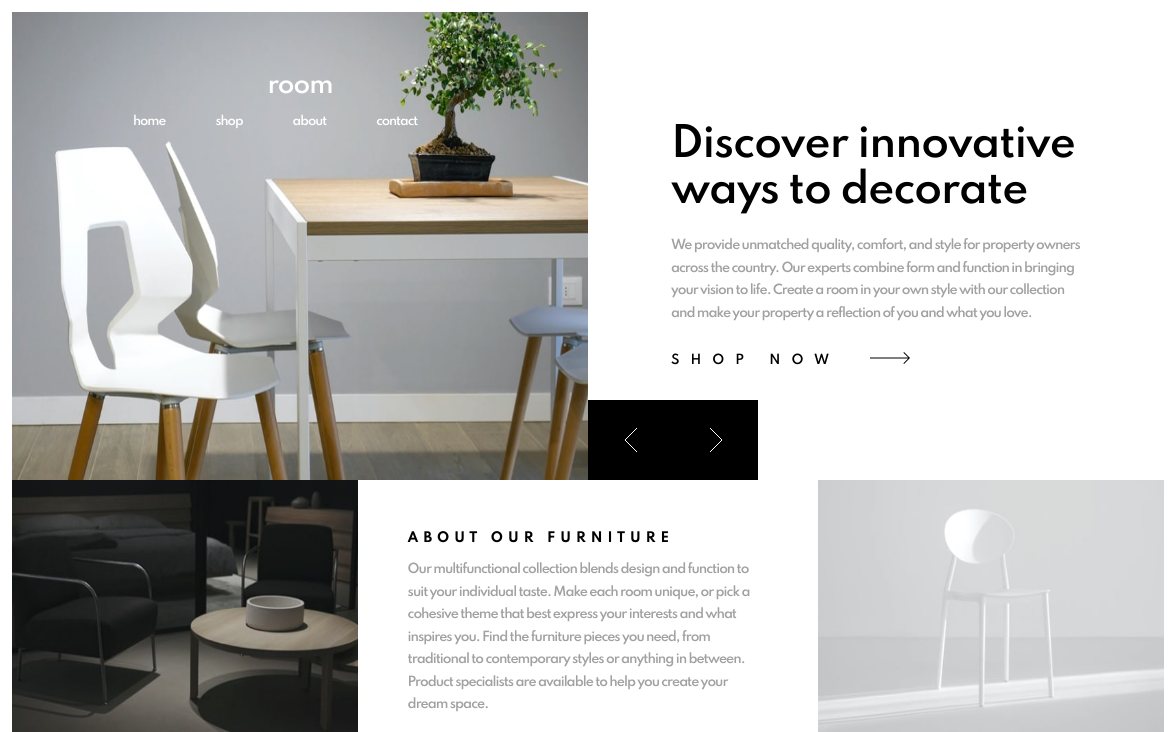
Test: test App change slide for text and image › test text change when click on right arrow div
Check: the heading with test id "article-title" reads "Discover innovative ways to decorate", box top-left (671, 123), bottom-right (1075, 213)
Check: the text with test id "article-text" shows "We provide unmatched quality, comfort, and style for property owners across the country. Our experts combine form and function in bringing your vision to life.", box top-left (671, 238), bottom-right (1080, 320)
What coordinates should you click on to do the following:
click the button with test id "right-arrow"
I would click on:
 (716, 440)
Its box is top-left (673, 400), bottom-right (758, 480).
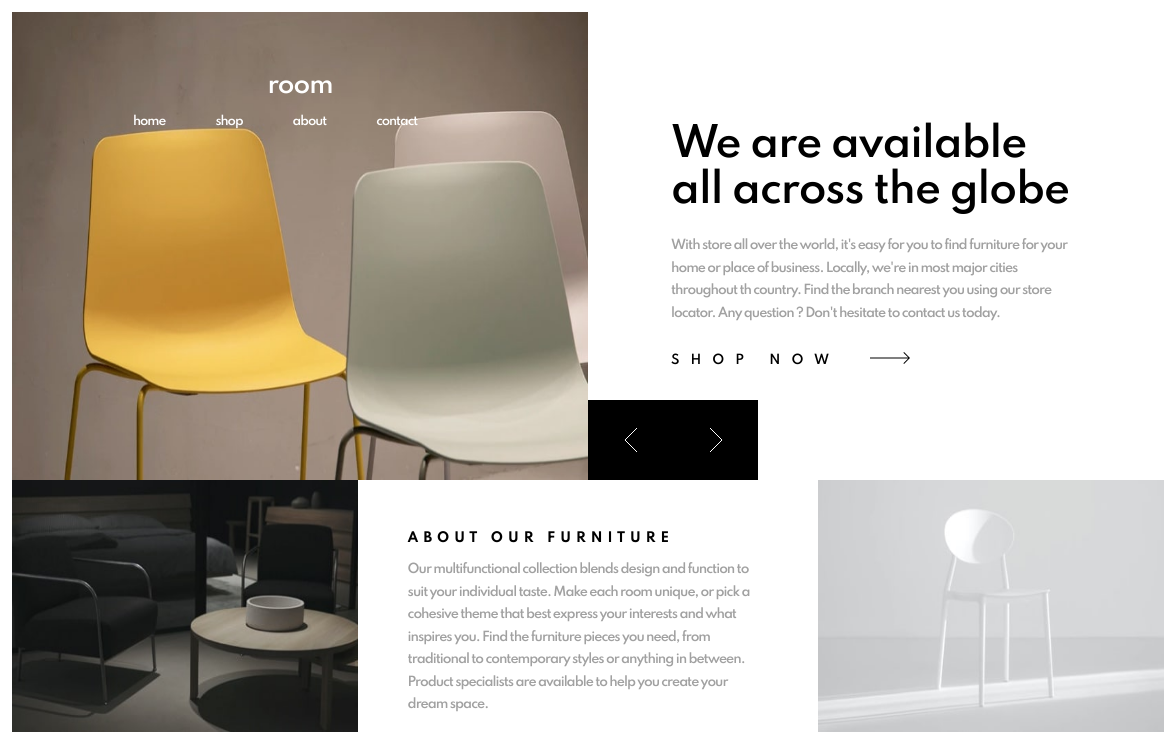
Check: the heading with test id "article-title" reads "We are available all across the globe", box top-left (671, 123), bottom-right (1069, 213)
Check: the text with test id "article-text" shows "With store all over the world, it's easy for you to find furniture for your home or place of business. Locally, we're in most major cities throughout th country", box top-left (671, 238), bottom-right (1067, 320)
